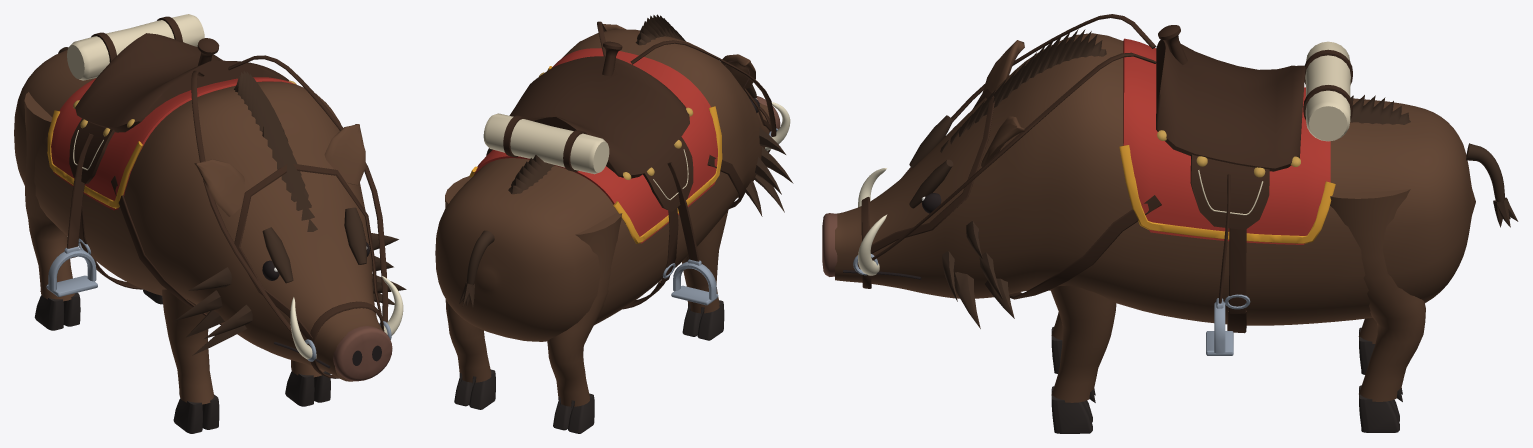
Rendered from BoarMount.fbx.
3 views of the same model, side by side, from view 1: azimuth 30°, elevation 25°; view 2: azimuth 150°, elevation 25°; view 3: azimuth 270°, elevation 25° (orthographic). The views are drawn at different scales.
Parts seen in each view (by area): view 1: BoarMount_Body, BoarMount_Saddle, BoarMount_Crest, BoarMount_Blanket, BoarMount_Harness, BoarMount_Reins, BoarMount_Leg_RR, BoarMount_Ears, BoarMount_Leg_FR, BoarMount_Bedroll, BoarMount_Snout, BoarMount_Tail (+8 smaller); view 2: BoarMount_Body, BoarMount_Saddle, BoarMount_Blanket, BoarMount_Leg_RR, BoarMount_Bedroll, BoarMount_Crest, BoarMount_Leg_RL, BoarMount_Reins, BoarMount_Leg_FR, BoarMount_Harness, BoarMount_Stirrups, BoarMount_BlanketTrim (+7 smaller); view 3: BoarMount_Body, BoarMount_Saddle, BoarMount_Blanket, BoarMount_Leg_RL, BoarMount_Crest, BoarMount_Harness, BoarMount_Leg_FL, BoarMount_Bedroll, BoarMount_Reins, BoarMount_BlanketTrim, BoarMount_Tail, BoarMount_Ears (+6 smaller).
Part boxes in pixels (box(x1,y1,x2,y2)): BoarMount_Body: box(14, 49, 382, 381); BoarMount_Saddle: box(69, 33, 288, 183); BoarMount_Crest: box(175, 71, 406, 355); BoarMount_Blanket: box(51, 77, 294, 210); BoarMount_Harness: box(79, 164, 384, 378); BoarMount_Reins: box(67, 55, 388, 332); BoarMount_Leg_RR: box(24, 92, 74, 301); BoarMount_Ears: box(194, 124, 365, 216); BoarMount_Leg_FR: box(162, 289, 214, 404); BoarMount_Bedroll: box(67, 14, 204, 80); BoarMount_Snout: box(333, 326, 392, 381); BoarMount_Tail: box(58, 47, 366, 283); BoarMount_Body: box(435, 29, 775, 341); BoarMount_Saddle: box(486, 41, 693, 211); BoarMount_Blanket: box(474, 48, 717, 243); BoarMount_Leg_RR: box(547, 212, 622, 406); BoarMount_Bedroll: box(483, 113, 609, 174); BoarMount_Crest: box(459, 14, 793, 307); BoarMount_Leg_RL: box(445, 176, 491, 382); BoarMount_Reins: box(597, 21, 776, 270); BoarMount_Leg_FR: box(682, 210, 728, 313); BoarMount_Harness: box(622, 88, 771, 309); BoarMount_Stirrups: box(663, 128, 778, 305); BoarMount_BlanketTrim: box(469, 66, 722, 243); BoarMount_Body: box(835, 33, 1475, 325); BoarMount_Saddle: box(1156, 25, 1305, 229); BoarMount_Blanket: box(1123, 38, 1330, 244); BoarMount_Leg_RL: box(1330, 189, 1425, 401); BoarMount_Crest: box(940, 29, 1518, 328); BoarMount_Harness: box(861, 89, 1246, 333); BoarMount_Leg_FL: box(1050, 285, 1116, 402); BoarMount_Bedroll: box(1305, 41, 1350, 141); BoarMount_Reins: box(871, 14, 1230, 303); BoarMount_BlanketTrim: box(1119, 145, 1335, 243); BoarMount_Tail: box(909, 115, 1504, 208); BoarMount_Ears: box(981, 40, 1024, 166).
Bounding box in the file's own units: 99.2 × 118 × 202.
